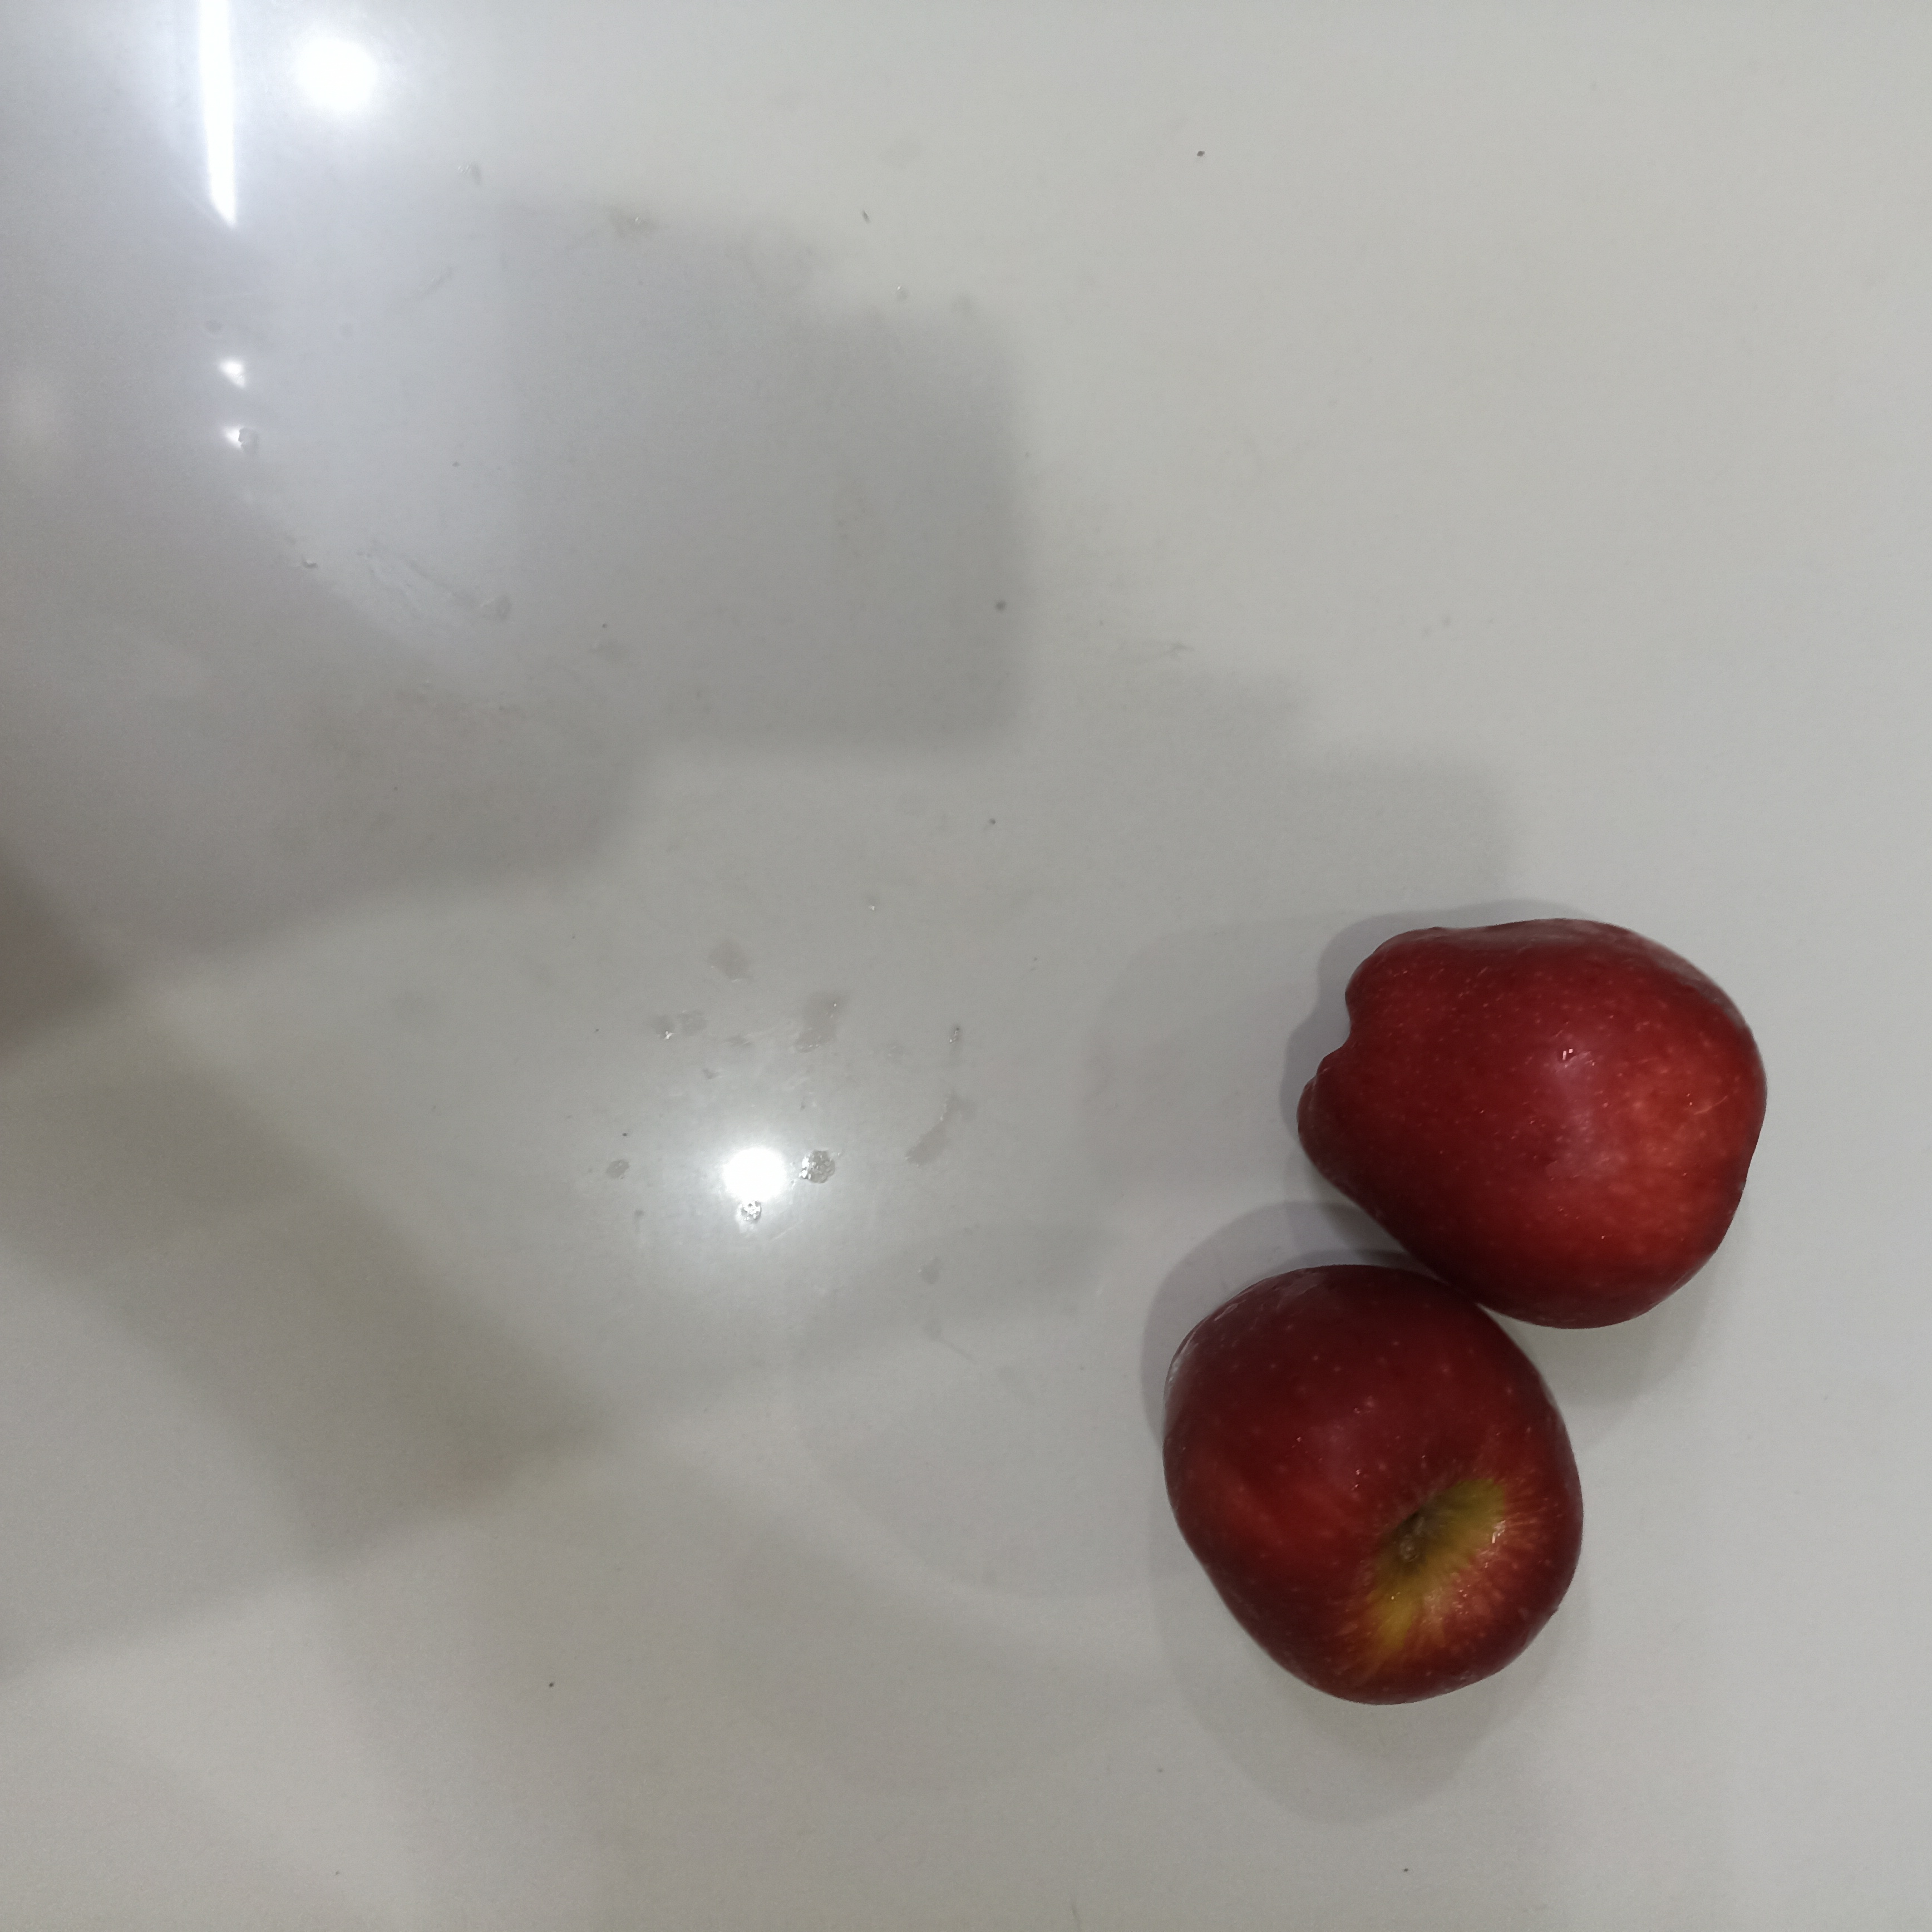Tao do: (1294, 916, 1771, 1334), (1165, 1266, 1580, 1706)
